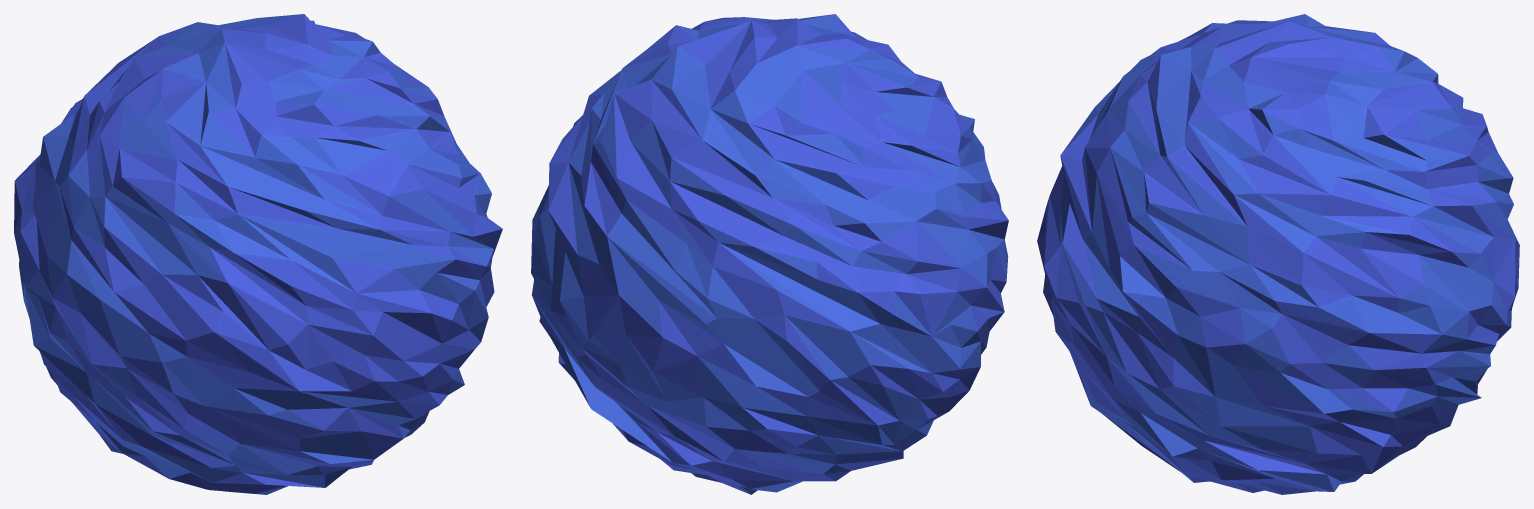
The model's file is Neptune.FBX.
3 views of the same model, side by side, from view 1: azimuth 30°, elevation 25°; view 2: azimuth 150°, elevation 25°; view 3: azimuth 270°, elevation 25° (orthographic).
Visible parts, largest first — view 1: Neptune; view 2: Neptune; view 3: Neptune.
Part boxes in pixels (<box>): Neptune: <box>14,14,502,494</box>; Neptune: <box>531,14,1008,494</box>; Neptune: <box>1037,14,1519,494</box>.
Size of the model in its own units: 0.6214 by 0.6213 by 0.6204.
